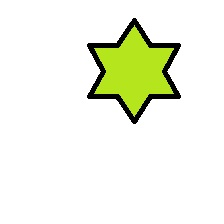star: (86, 18, 182, 125)
